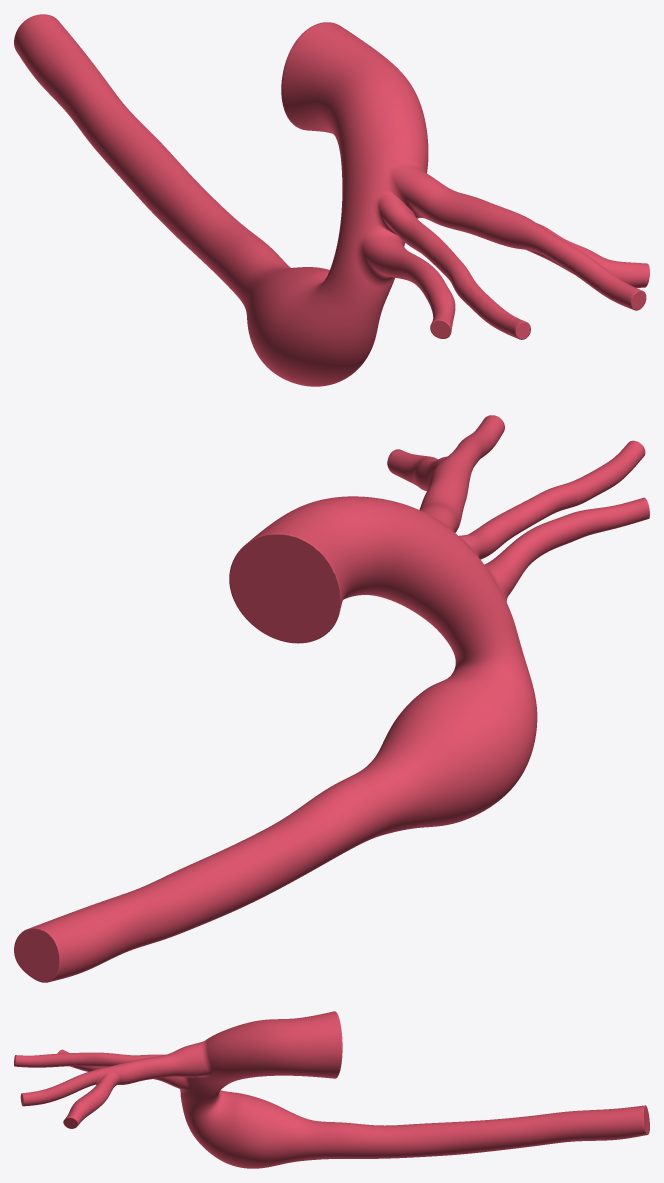
The model's file is alex_aneurysm_aorta_0021.glb.
The picture shows the model from 3 angles, top to bottom: view 1: azimuth 30°, elevation 25°; view 2: azimuth 150°, elevation 25°; view 3: azimuth 270°, elevation 25°; orthographic projection. The views are drawn at different scales.
Parts seen in each view (by area): view 1: VMR_0021_Aneurysm_Aorta; view 2: VMR_0021_Aneurysm_Aorta; view 3: VMR_0021_Aneurysm_Aorta.
Boxes of the visible parts, left/top/right/bottom form: VMR_0021_Aneurysm_Aorta: left=14, top=14, right=649, bottom=386; VMR_0021_Aneurysm_Aorta: left=14, top=415, right=649, bottom=982; VMR_0021_Aneurysm_Aorta: left=14, top=1011, right=649, bottom=1168.
Size of the model in its own units: 8.65 by 9.39 by 30.74.
